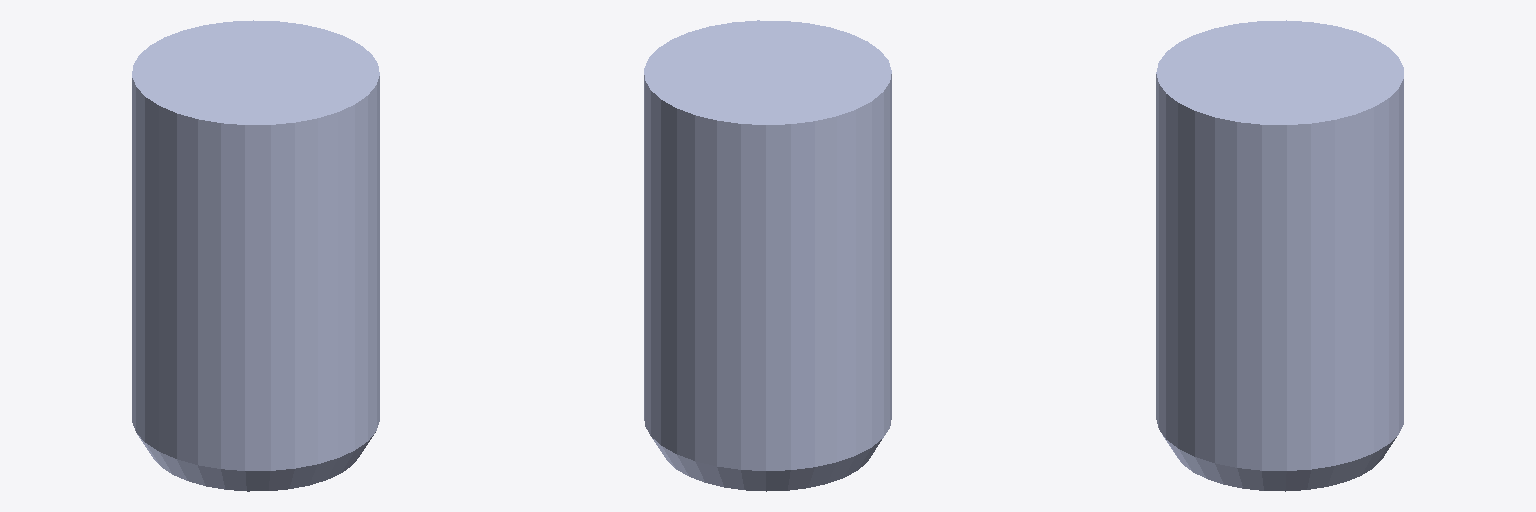
URDF robot description (peg2.SLDPRT):
<robot
  name="peg2.SLDPRT">
  <link
    name="peg2">
    <inertial>
      <origin
        xyz="-1.3447E-35 -2.07117068886884E-18 -0.028798"
        rpy="0 0 0" />
      <mass
        value="0.055392" />
      <inertia
        ixx="1.95428544266061E-05"
        ixy="2.05272212220938E-22"
        ixz="-4.10544424441876E-22"
        iyy="1.95428544266061E-05"
        iyz="-4.6395145406224E-22"
        izz="8.41063081669481E-06" />
    </inertial>
    <visual>
      <origin
        xyz="0 0 0"
        rpy="1.5707963267949 0 0" />
      <geometry>
        <mesh
          filename="package://sawyer_gazebo_env/models/peg2/peg2.STL" />
      </geometry>
      <material
        name="">
        <color
          rgba="0.79216 0.81961 0.93333 1" />
      </material>
    </visual>
    <collision>
      <origin
        xyz="0 0 0"
        rpy="1.5707963267949 0 0" />
      <geometry>
        <mesh
          filename="package://sawyer_gazebo_env/models/peg2/peg2.STL" />
      </geometry>
    </collision>
  </link>
</robot>

--- Facts derived from the render (not from the file) ---
The picture shows the robot from 3 angles, left to right: view 1: azimuth 30°, elevation 25°; view 2: azimuth 150°, elevation 25°; view 3: azimuth 270°, elevation 25°; orthographic projection.
Model peg2.SLDPRT with 1 links and 0 joints (none), rooted at peg2, posed all joints at 0.
Links seen in each view (by area): view 1: peg2; view 2: peg2; view 3: peg2.
Boxes of the visible links, x1,y1,x2,y2 form: peg2: (132,20,379,491); peg2: (644,20,891,491); peg2: (1156,20,1403,491).
Bounding box of the posed robot: 0.035 × 0.0349 × 0.0582 m (x, y, z).
Meshes: 1 distinct files referenced, 1 mesh visuals loaded (1 binary STL).